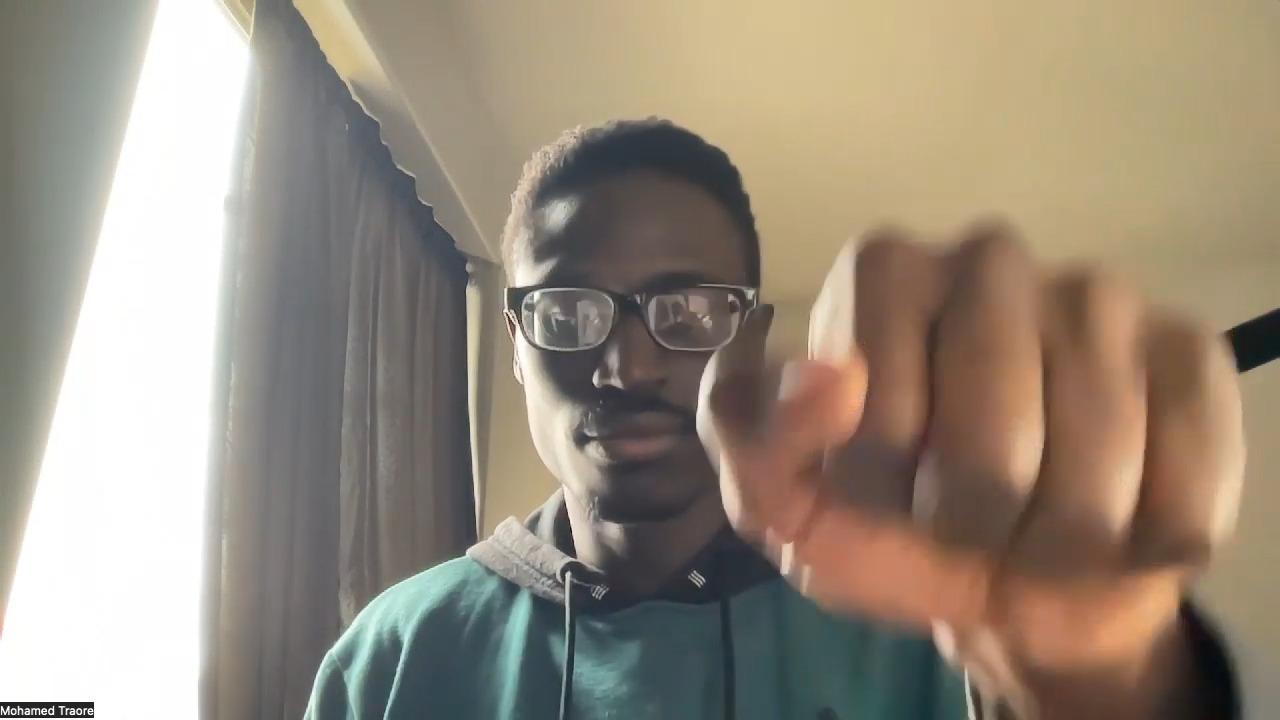Rock: (697, 213, 1250, 675)
